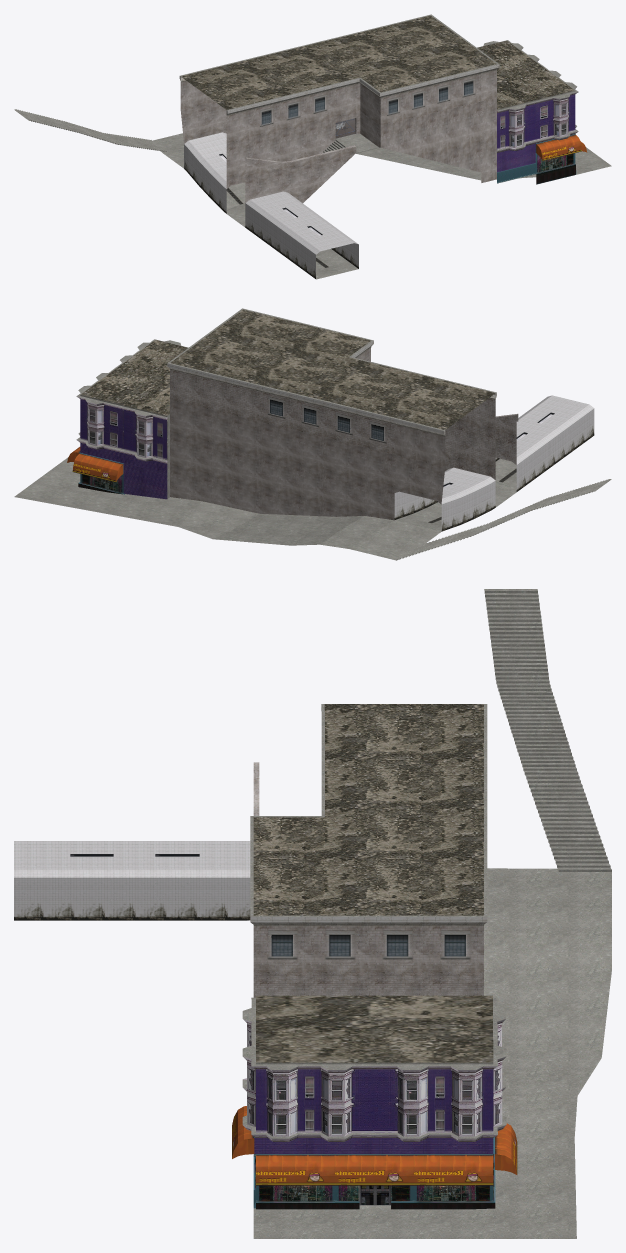
Rendered from hashupass_sfs.obj.
The picture shows the model from 3 angles, top to bottom: view 1: azimuth 30°, elevation 25°; view 2: azimuth 150°, elevation 25°; view 3: azimuth 270°, elevation 25°; orthographic projection. The views are drawn at different scales.
Parts seen in each view (by area): view 1: hashupass_SFS; view 2: hashupass_SFS; view 3: hashupass_SFS.
Boxes of the visible parts, x1=… form: hashupass_SFS: x1=14, y1=14, x2=611, y2=279; hashupass_SFS: x1=14, y1=308, x2=611, y2=560; hashupass_SFS: x1=14, y1=589, x2=611, y2=1238.
Size of the model in its own units: 88.4 by 21.31 by 51.09.
Materials: 15 (15 with a texture image).
